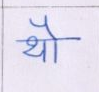ai_matra: (30, 17, 59, 38)
